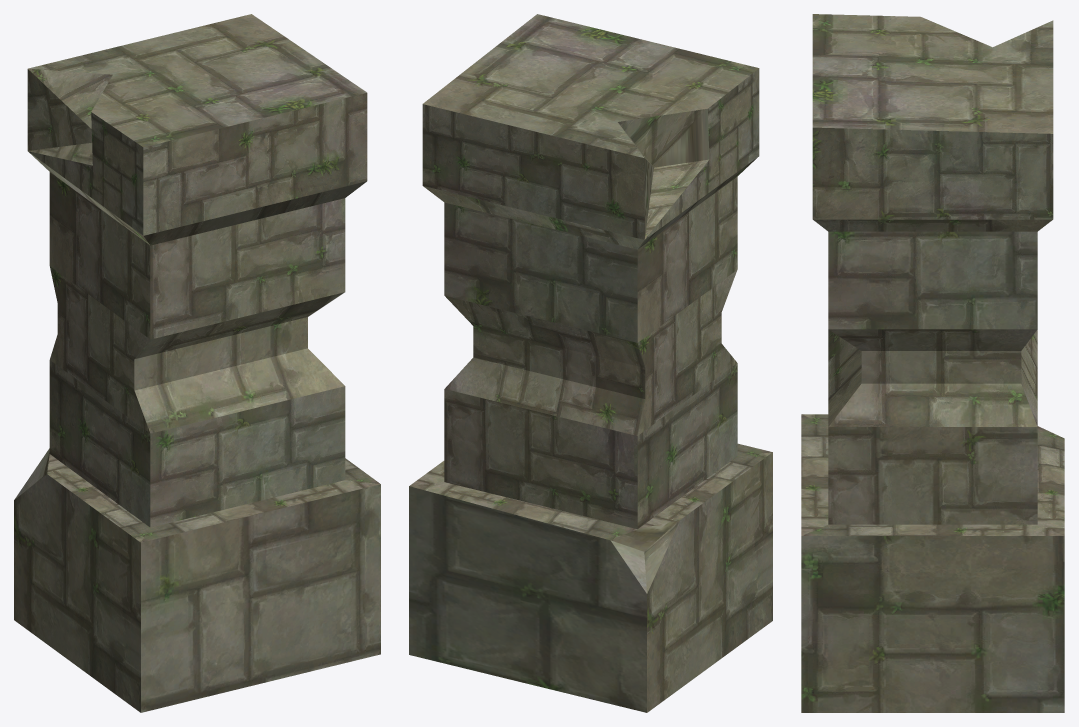
File: Col_a.glb
3 renders of one model, left to right at view 1: azimuth 30°, elevation 25°; view 2: azimuth 150°, elevation 25°; view 3: azimuth 270°, elevation 25°, orthographic. The views are drawn at different scales.
Parts seen in each view (by area): view 1: Col_a; view 2: Col_a; view 3: Col_a.
Part boxes in pixels (<box>): Col_a: <box>14,14,380,712</box>; Col_a: <box>409,14,772,712</box>; Col_a: <box>801,14,1064,712</box>.
Size of what is drawn, in the model's own units: 1.37 by 3.06 by 1.26.
Materials: 1 (1 with a texture image).
